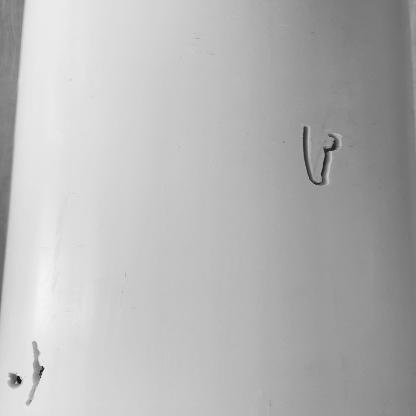fengxi: (295, 117, 348, 184)
kongdong: (26, 337, 48, 407), (5, 369, 31, 391)
